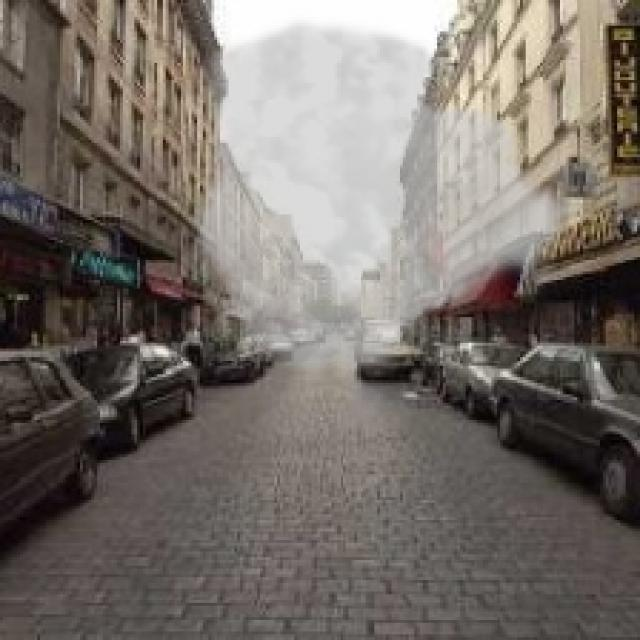smoke: (188, 14, 572, 383)
